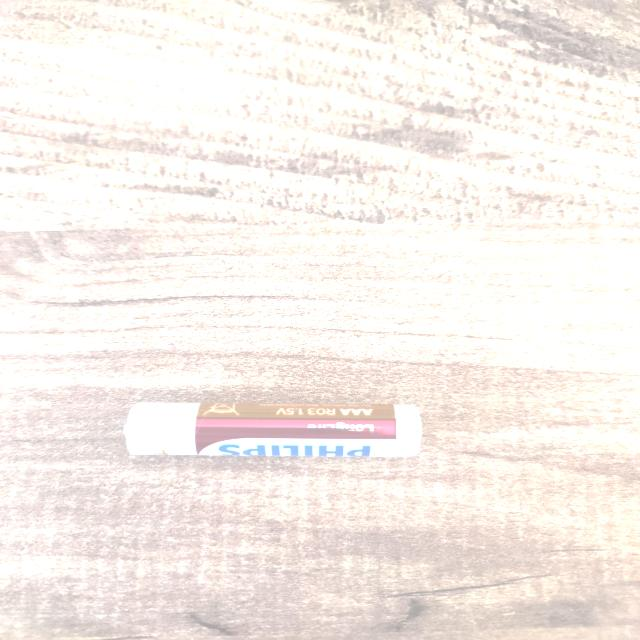AAA: (120, 400, 426, 458)
